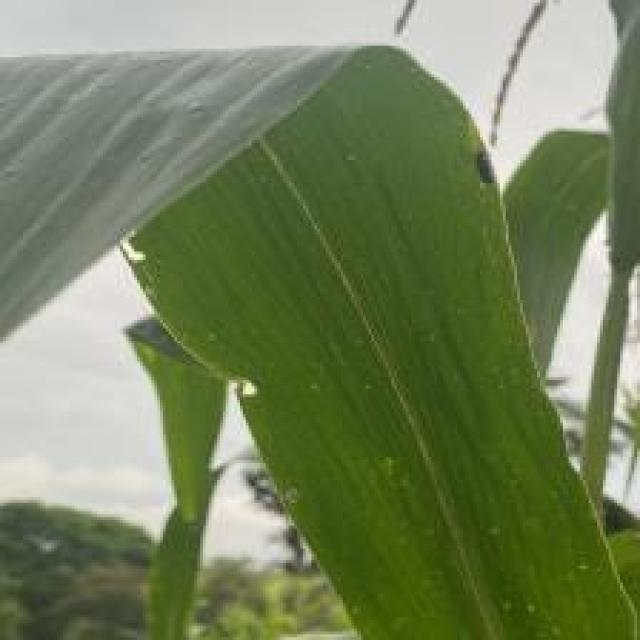Plaga: (442, 134, 511, 228)
